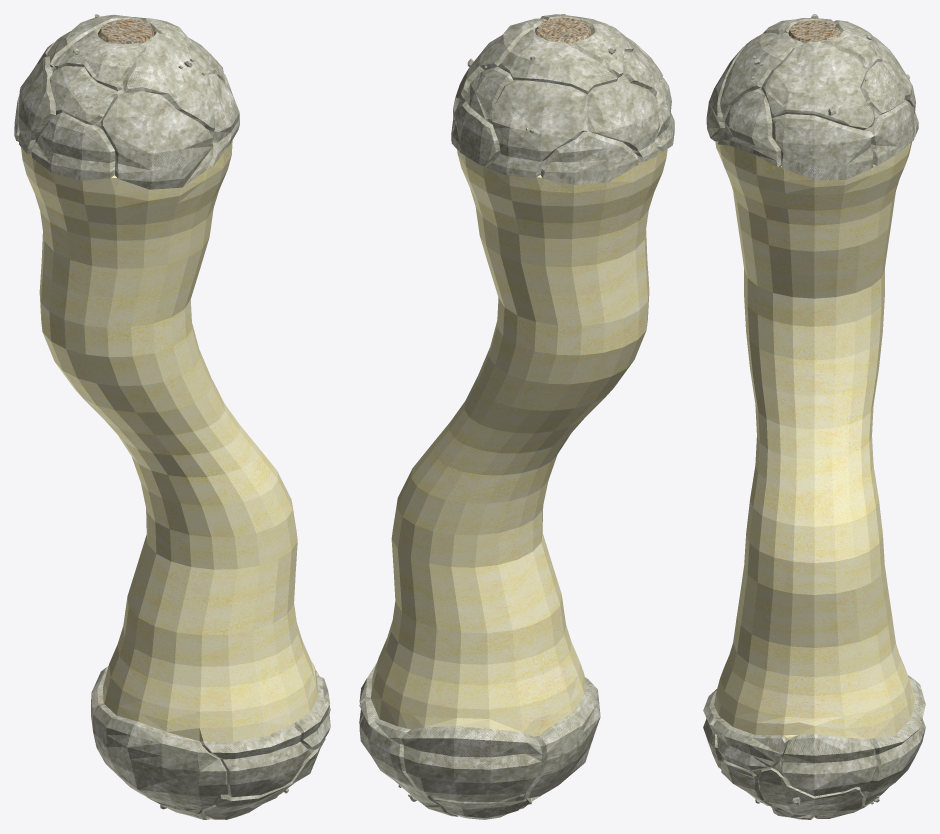
Rendered from SandStreamJointPlanetA_bake.dae.
3 renders of one model, left to right at view 1: azimuth 30°, elevation 25°; view 2: azimuth 150°, elevation 25°; view 3: azimuth 270°, elevation 25°, orthographic. The views are drawn at different scales.
Visible parts, largest first — view 1: m4, m2, m1, m0, m3; view 2: m4, m2, m0, m1, m3; view 3: m4, m2, m1, m0, m3.
Boxes of the visible parts, bbox=[...] form: m4: bbox=[21, 140, 318, 742]; m2: bbox=[31, 17, 325, 819]; m1: bbox=[18, 56, 319, 819]; m0: bbox=[14, 14, 330, 819]; m3: bbox=[98, 19, 212, 819]; m4: bbox=[371, 149, 667, 736]; m2: bbox=[419, 18, 674, 816]; m0: bbox=[359, 14, 662, 819]; m1: bbox=[359, 37, 659, 802]; m3: bbox=[535, 17, 590, 44]; m4: bbox=[714, 141, 914, 739]; m2: bbox=[717, 18, 918, 818]; m1: bbox=[703, 44, 925, 819]; m0: bbox=[712, 14, 922, 805]; m3: bbox=[788, 20, 840, 43].
Bounding box in the file's own units: 1535 × 4094 × 1120.
6 materials, 6 textured.
